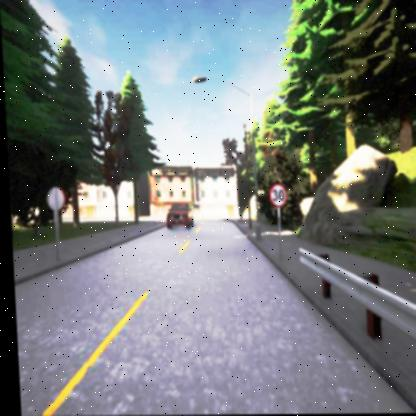vehicle: (164, 203, 191, 229)
